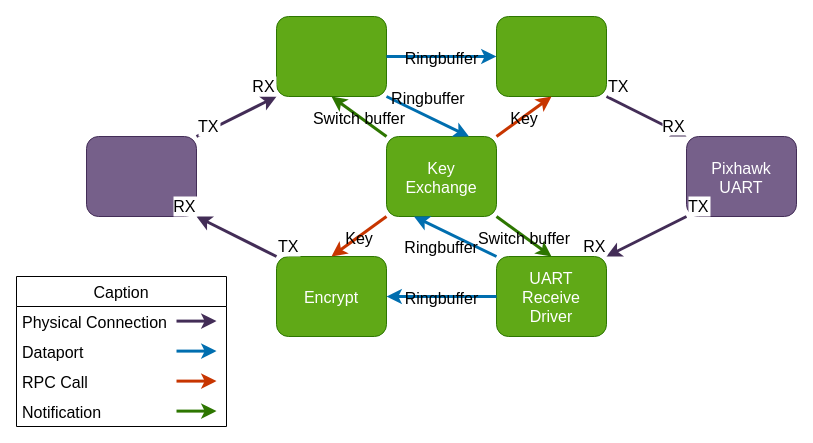
Image size: 813x443. Some labels were removed from this diagram. Each missing label, with the centre of its shape:
3DR Telemetry: the point at 141,176
Decrypt: the point at 551,56
Telemetry Receive Driver: the point at 331,56
